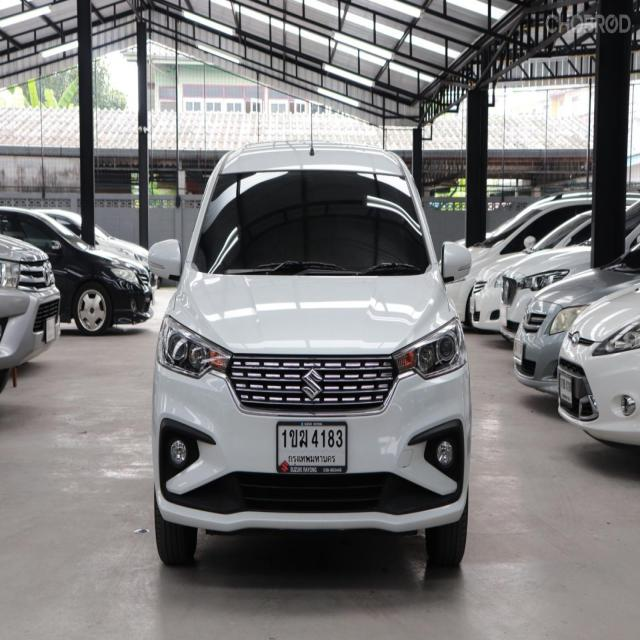license_plate: (276, 416, 348, 476), (557, 368, 574, 409), (45, 314, 58, 346), (512, 339, 526, 363), (468, 299, 478, 315)
